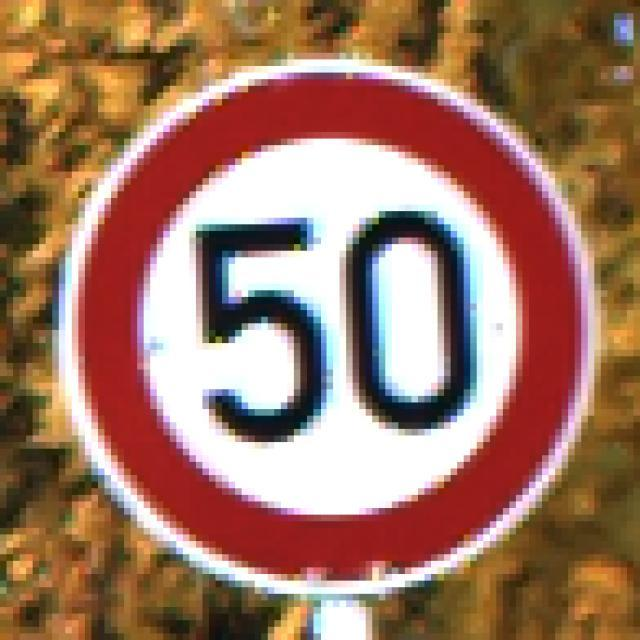speed limit 50: (46, 56, 604, 604)
